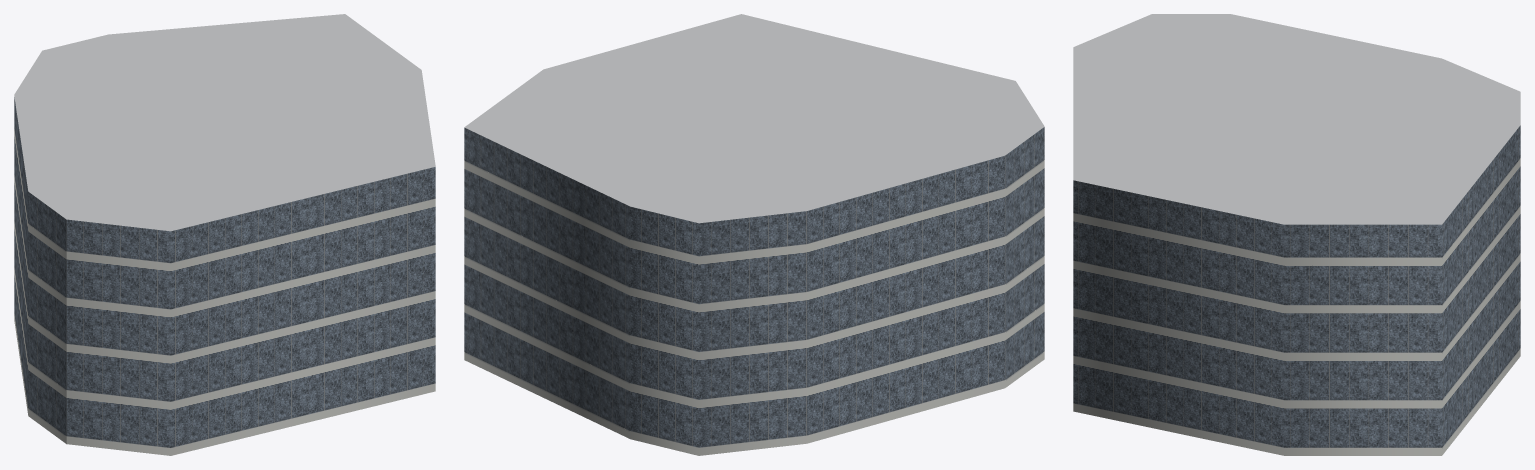
The model's file is bldg_far_03.glb.
3 views of the same model, side by side, from view 1: azimuth 30°, elevation 25°; view 2: azimuth 150°, elevation 25°; view 3: azimuth 270°, elevation 25° (orthographic). The views are drawn at different scales.
Visible parts, largest first — view 1: bldg_far_03.facade, bldg_far_03.roof; view 2: bldg_far_03.facade, bldg_far_03.roof; view 3: bldg_far_03.facade, bldg_far_03.roof.
Part boxes in pixels (x1,y1,x2,y2): bldg_far_03.facade: [14, 97, 435, 455]; bldg_far_03.roof: [14, 14, 435, 231]; bldg_far_03.facade: [464, 127, 1044, 455]; bldg_far_03.roof: [464, 14, 1044, 223]; bldg_far_03.facade: [1073, 125, 1520, 455]; bldg_far_03.roof: [1073, 14, 1520, 224].
Size of the model in its own units: 38.02 by 19.45 by 34.11.
Materials: 2 (1 with a texture image).
